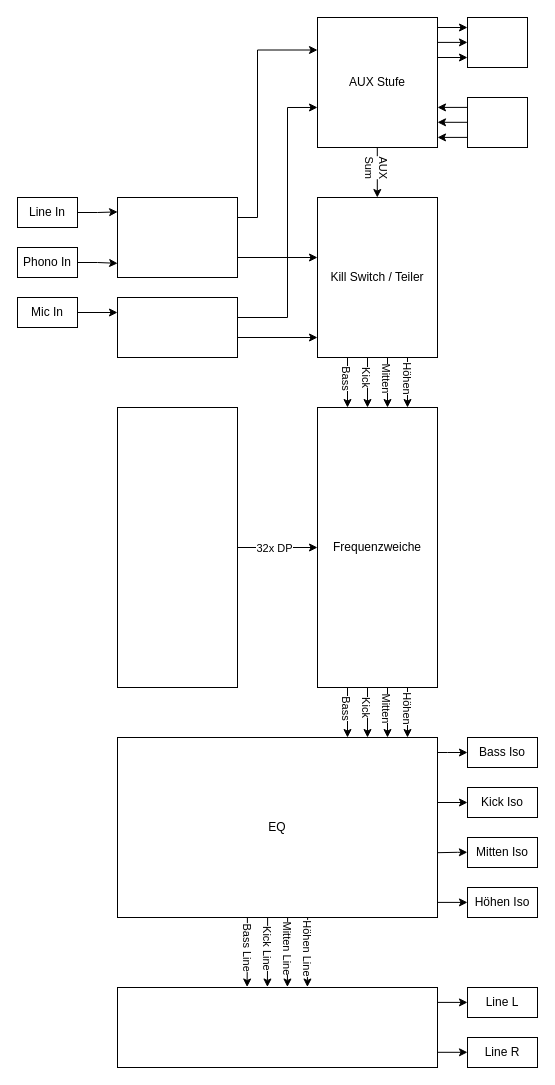
The diagram is 555 pixels wide and 1085 high, and some of its shapes have lost their labels. The shapes that lost their labels are listed below. From the top down, each one's centre as x and y in pixels, then its label:
At point (497, 42): "AUX Send".
At point (497, 122): "AUX Return".
At point (177, 237): "Line/Phono Eingangsstufe".
At point (177, 327): "Mic Eingangstufe / EQ".
At point (177, 547): "Controller / DigiPot".
At point (277, 1027): "Ausgangstufe / VU Meter".
